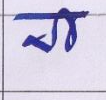i_matra: (58, 8, 75, 50)
